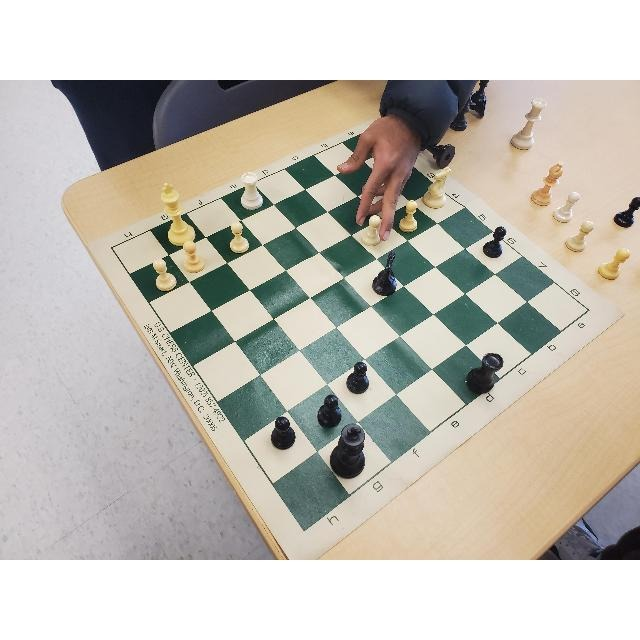black-king: (328, 422, 368, 480)
black-knight: (370, 253, 400, 295)
black-pawn: (270, 415, 296, 451), (481, 225, 507, 259), (317, 393, 341, 428), (346, 362, 370, 394)
black-rook: (465, 350, 505, 394)
white-king: (159, 182, 197, 248)
white-knight: (421, 166, 452, 210)
white-pawn: (151, 256, 178, 291), (182, 240, 205, 274), (228, 221, 251, 254), (359, 214, 382, 245), (399, 200, 419, 232)
white-rook: (240, 172, 264, 211)
